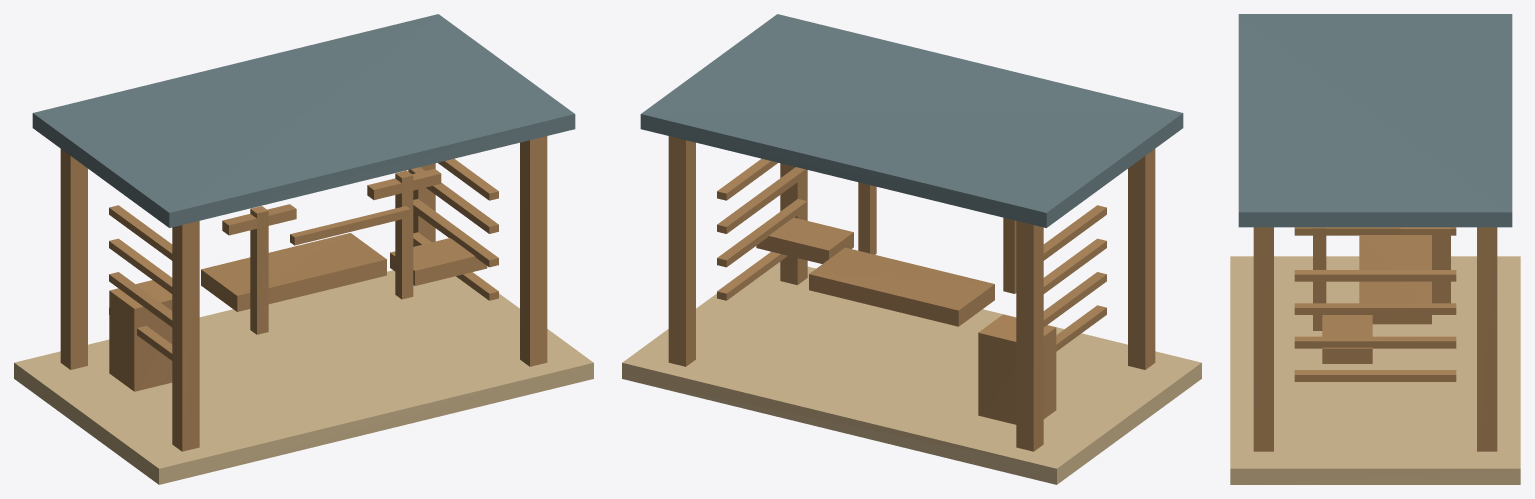
The model's file is Basket-Workshop.glb.
3 renders of one model, left to right at view 1: azimuth 30°, elevation 25°; view 2: azimuth 150°, elevation 25°; view 3: azimuth 270°, elevation 25°, orthographic.
Visible parts, largest first — view 1: basket-workshop-static-basket-iron, basket-workshop-static-basket-cream, basket-workshop-static-basket-timber, basket-workshop-static-basket-galv, basket-workshop-static-basket-teal; view 2: basket-workshop-static-basket-iron, basket-workshop-static-basket-cream, basket-workshop-static-basket-timber, basket-workshop-static-basket-galv, basket-workshop-static-basket-teal; view 3: basket-workshop-static-basket-iron, basket-workshop-static-basket-cream, basket-workshop-static-basket-timber, basket-workshop-static-basket-galv, basket-workshop-static-basket-teal.
Part boxes in pixels (x1=…): basket-workshop-static-basket-iron: x1=32, y1=14, x2=575, y2=227; basket-workshop-static-basket-cream: x1=14, y1=270, x2=593, y2=484; basket-workshop-static-basket-timber: x1=60, y1=136, x2=547, y2=451; basket-workshop-static-basket-galv: x1=109, y1=158, x2=498, y2=360; basket-workshop-static-basket-teal: x1=109, y1=280, x2=172, y2=391; basket-workshop-static-basket-iron: x1=640, y1=14, x2=1183, y2=227; basket-workshop-static-basket-cream: x1=622, y1=262, x2=1201, y2=484; basket-workshop-static-basket-timber: x1=668, y1=136, x2=1155, y2=451; basket-workshop-static-basket-galv: x1=717, y1=158, x2=1106, y2=351; basket-workshop-static-basket-teal: x1=978, y1=314, x2=1056, y2=424; basket-workshop-static-basket-iron: x1=1238, y1=14, x2=1512, y2=227; basket-workshop-static-basket-cream: x1=1230, y1=256, x2=1520, y2=484; basket-workshop-static-basket-timber: x1=1253, y1=227, x2=1497, y2=451; basket-workshop-static-basket-galv: x1=1294, y1=227, x2=1456, y2=381; basket-workshop-static-basket-teal: x1=1400, y1=227, x2=1450, y2=303.
Size of the model in its own units: 4.5 by 2.62 by 2.6.
